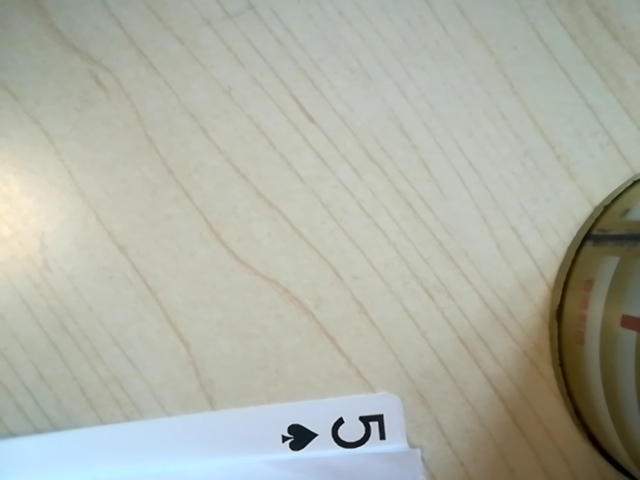ht 5: (268, 402, 403, 464)
